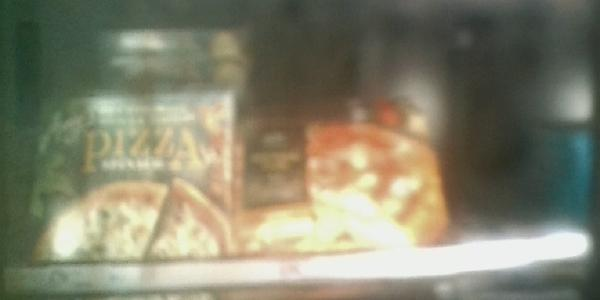pizza1: (22, 86, 236, 261), (237, 90, 447, 250)
pizza2: (46, 18, 249, 62), (41, 62, 250, 91)
